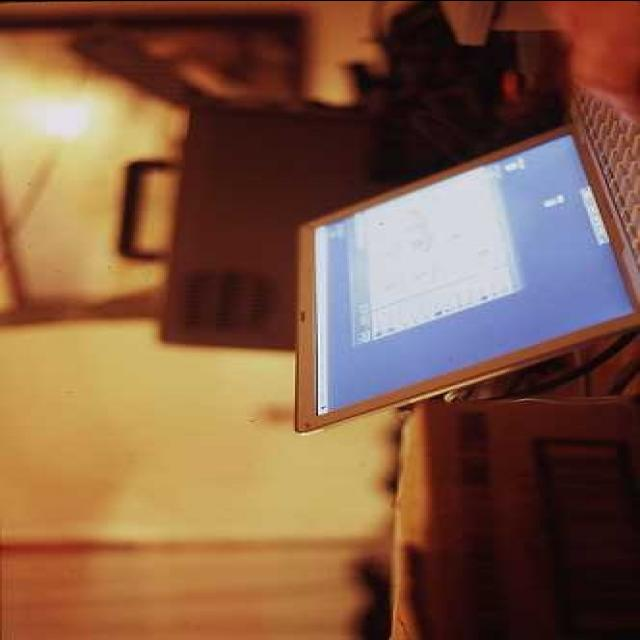laptop: (293, 102, 637, 424)
